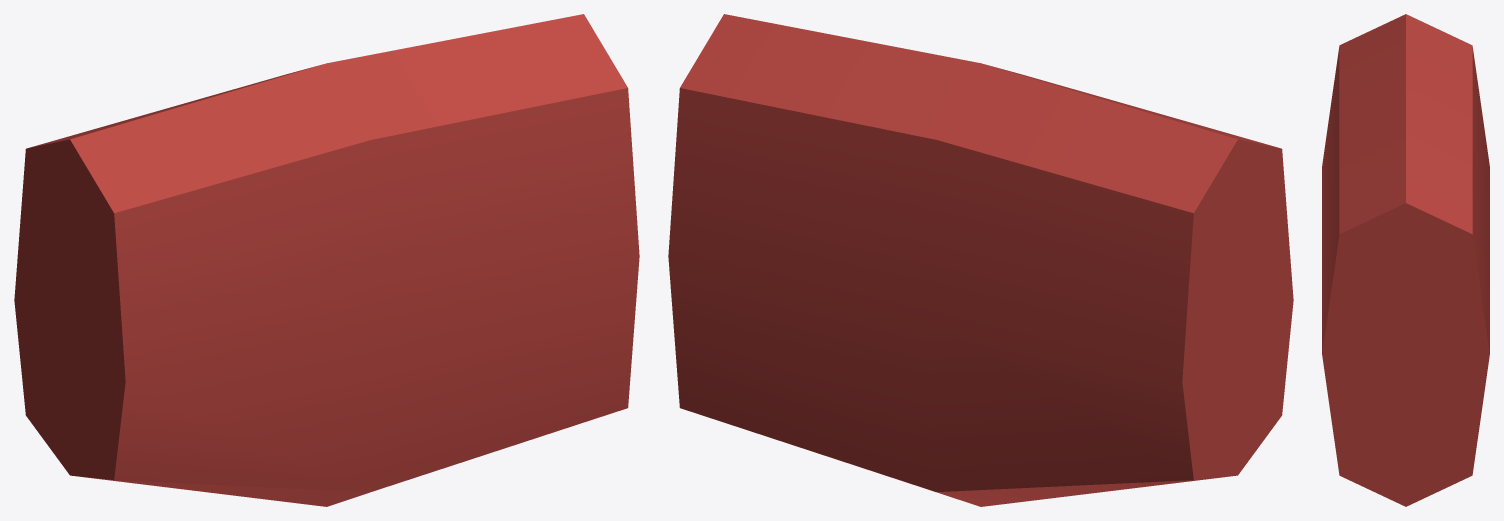
Rendered from saddlebag_lod2.glb.
The picture shows the model from 3 angles, left to right: view 1: azimuth 30°, elevation 25°; view 2: azimuth 150°, elevation 25°; view 3: azimuth 270°, elevation 25°; orthographic projection. The views are drawn at different scales.
Visible parts, largest first — view 1: saddlebag_lod2; view 2: saddlebag_lod2; view 3: saddlebag_lod2.
Part boxes in pixels (x1,y1,x2,y2): saddlebag_lod2: (14, 14, 639, 506); saddlebag_lod2: (668, 14, 1293, 506); saddlebag_lod2: (1322, 14, 1489, 506).
Bounding box in the file's own units: 0.4 × 0.33 × 0.15.
